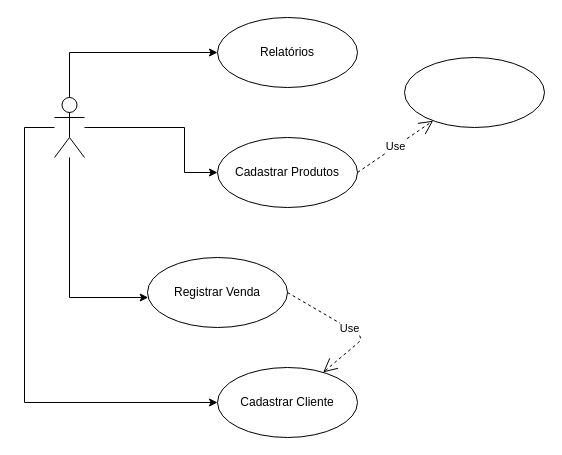
This 562x455 diagram has some shape labels left out. Here are the shapes that lost their labels. From the top down, the centre of each, then its label:
At point (474, 92): "Selecionar Categoria".
At point (69, 127): "Vendedor".
